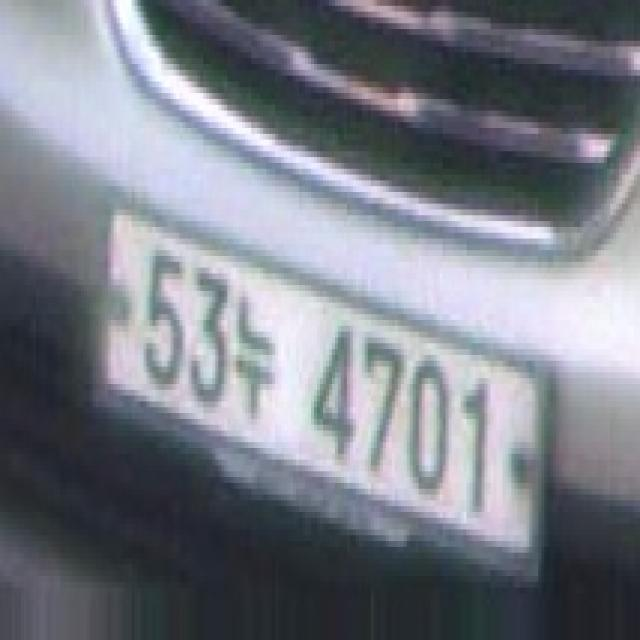0: (404, 337, 452, 518)
1: (454, 361, 496, 518)
3: (192, 256, 234, 431)
4: (299, 314, 362, 471)
5: (144, 233, 186, 401)
7: (362, 326, 404, 494)
license_plate: (96, 174, 550, 594)
nu: (233, 274, 284, 436)
